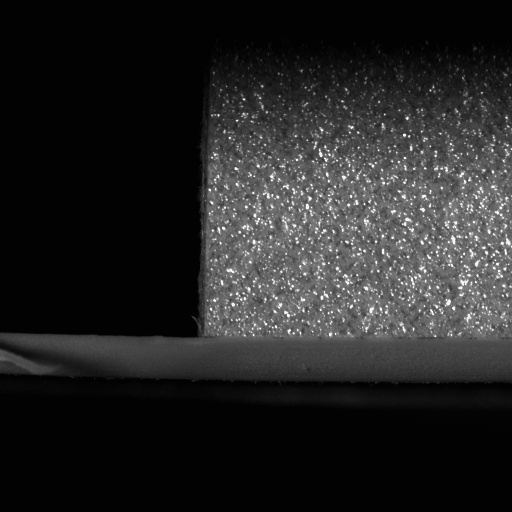changdai: (0, 331, 204, 384)
